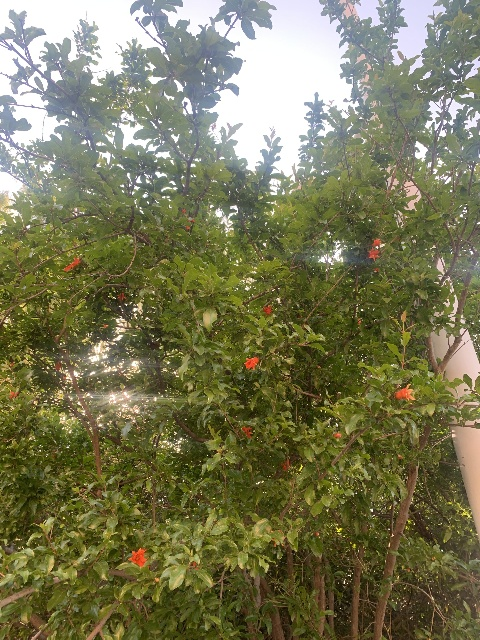bud: (332, 433, 341, 437)
flower: (127, 547, 148, 567), (394, 384, 414, 400), (63, 257, 80, 271), (367, 246, 380, 260), (245, 356, 258, 370), (241, 426, 252, 439), (262, 305, 272, 315), (281, 460, 290, 471), (117, 292, 126, 302), (369, 239, 381, 246), (9, 390, 18, 398), (55, 360, 61, 370)
